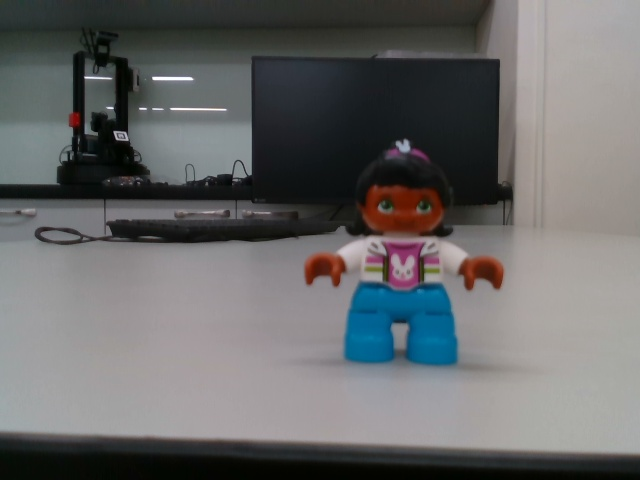people: (305, 139, 506, 368)
